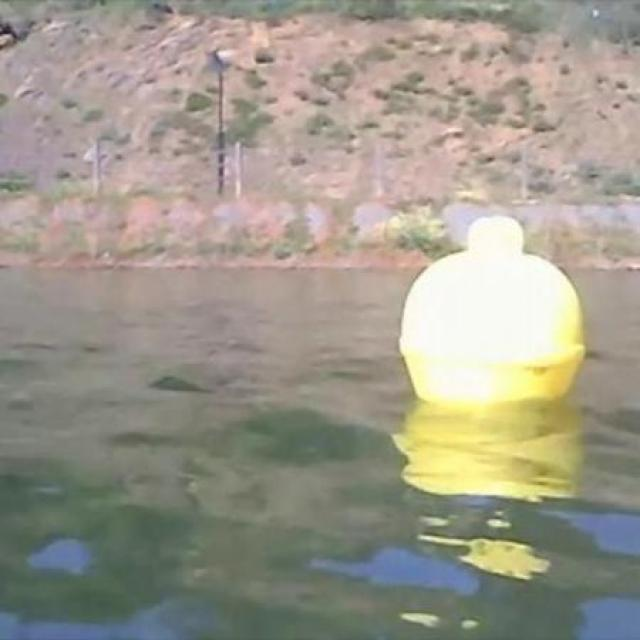buoy: (400, 217, 587, 412)
